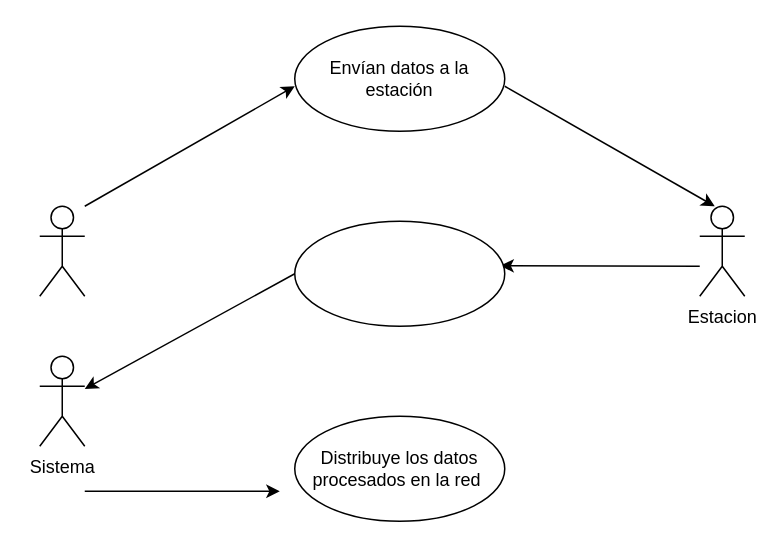
The diagram is 783 pixels wide and 548 high, and some of its shapes have lost their labels. Here are the shapes that lost their labels. From the top down, the centre of each, then its label:
(x=61, y=250): sensores
(x=399, y=273): Procesa los datos mediante modelos matematicos
